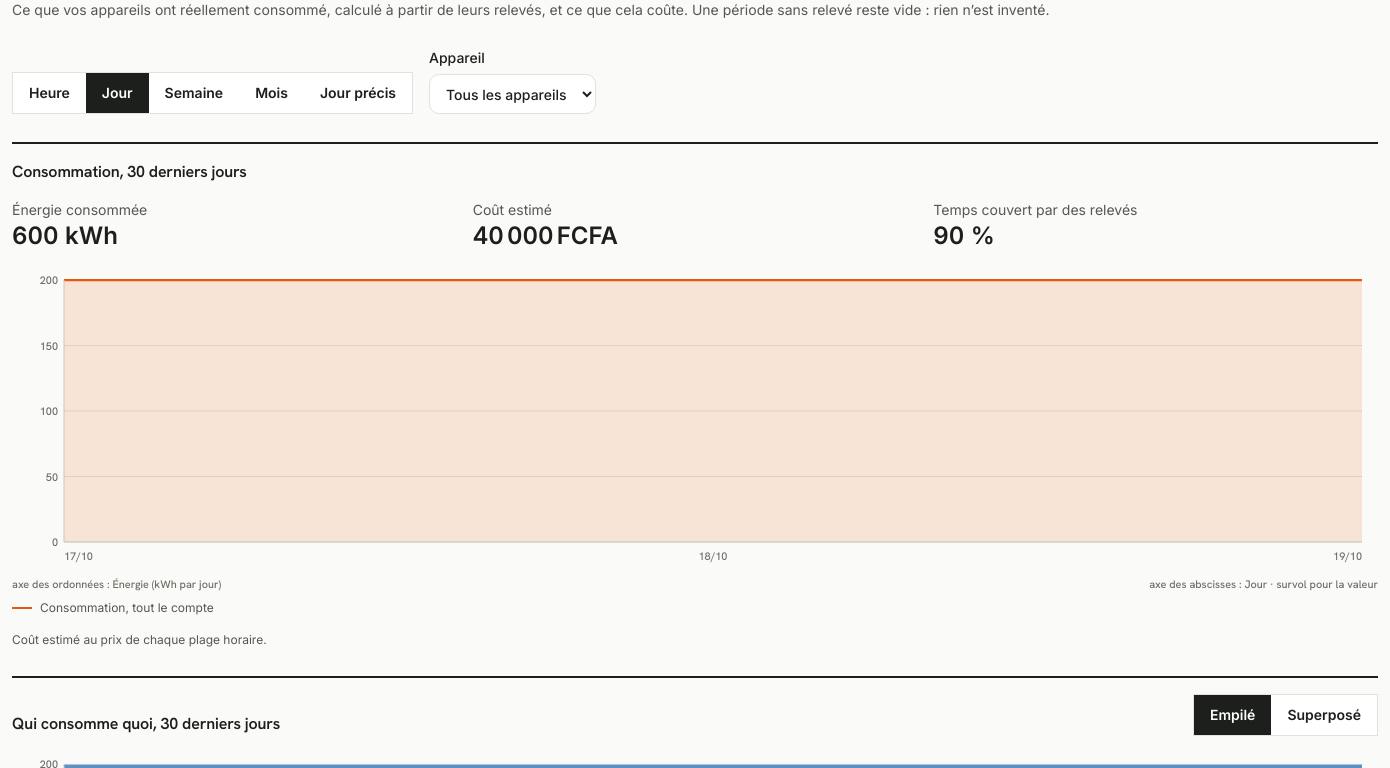
Test: Conso & coûts : nouvelle vue seule › nouvelle vue par défaut : axes nommés, qui consomme quoi, habitudes avec leur échelle
Expected: the heading "Qui consomme quoi, 30 derniers jours" is shown, [12,712,280,736]
Expected: the text "axe des ordonnées : Énergie (kWh par jour)" is shown, [12,576,221,592]
Click the button "Superposé" at (1324, 715), box [1271,695,1377,735]
(page scrolled)
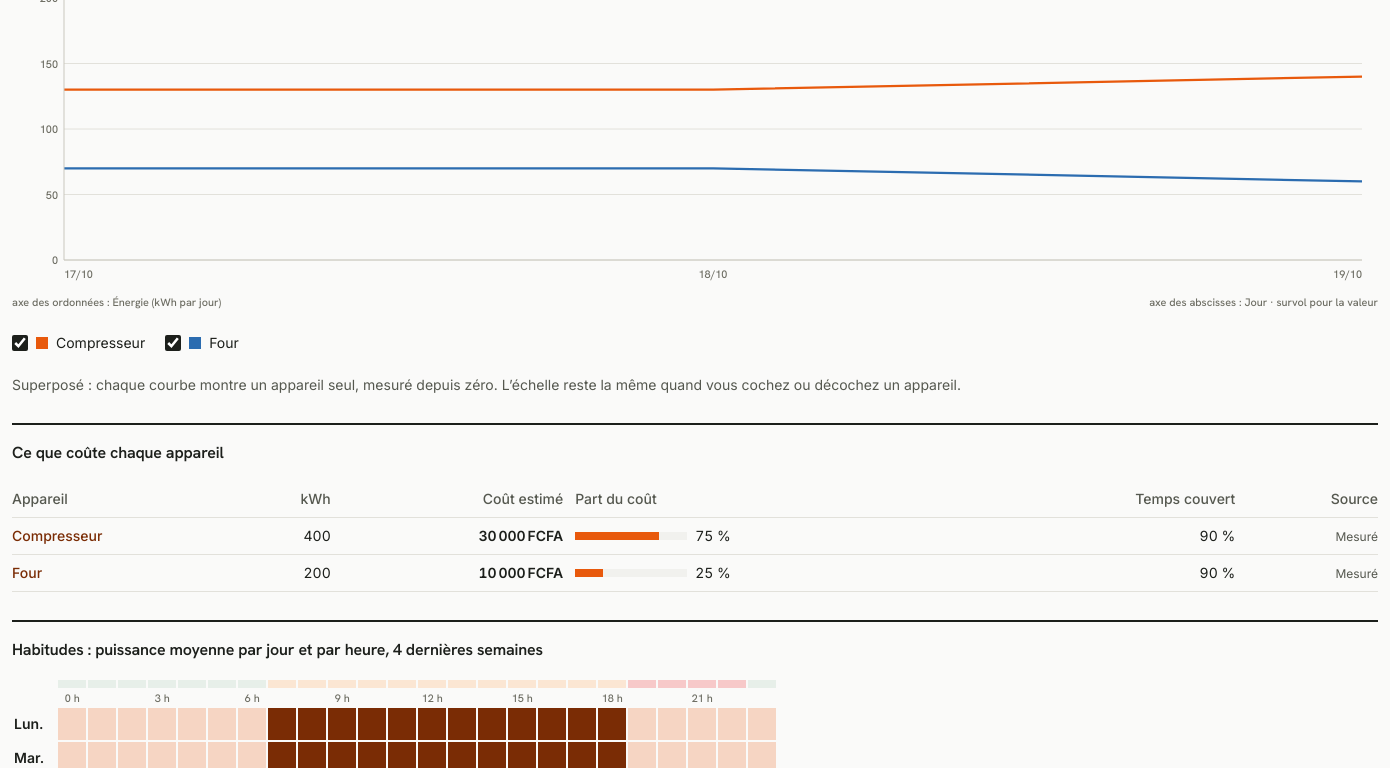
Expected: the text "Superposé : chaque courbe" is shown, [12,376,498,393]
